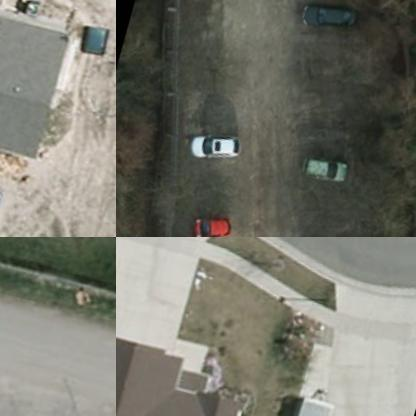car: (183, 124, 243, 169), (293, 148, 351, 192), (294, 0, 353, 37), (186, 210, 232, 236)
